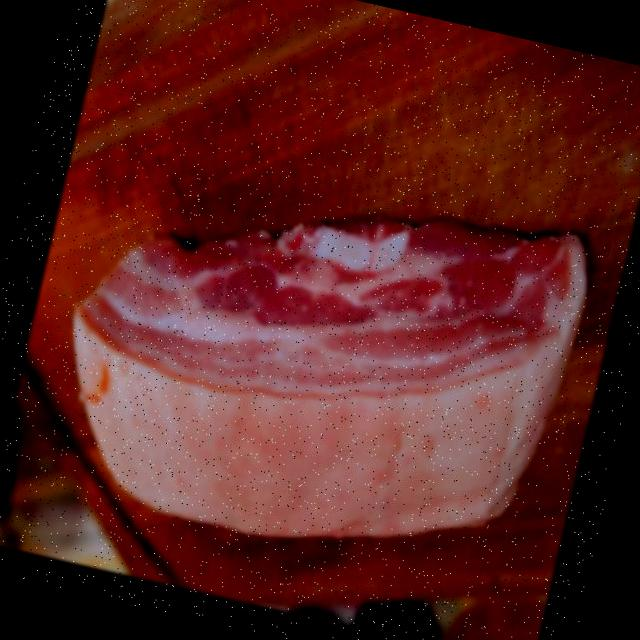pork: (28, 117, 606, 601)
